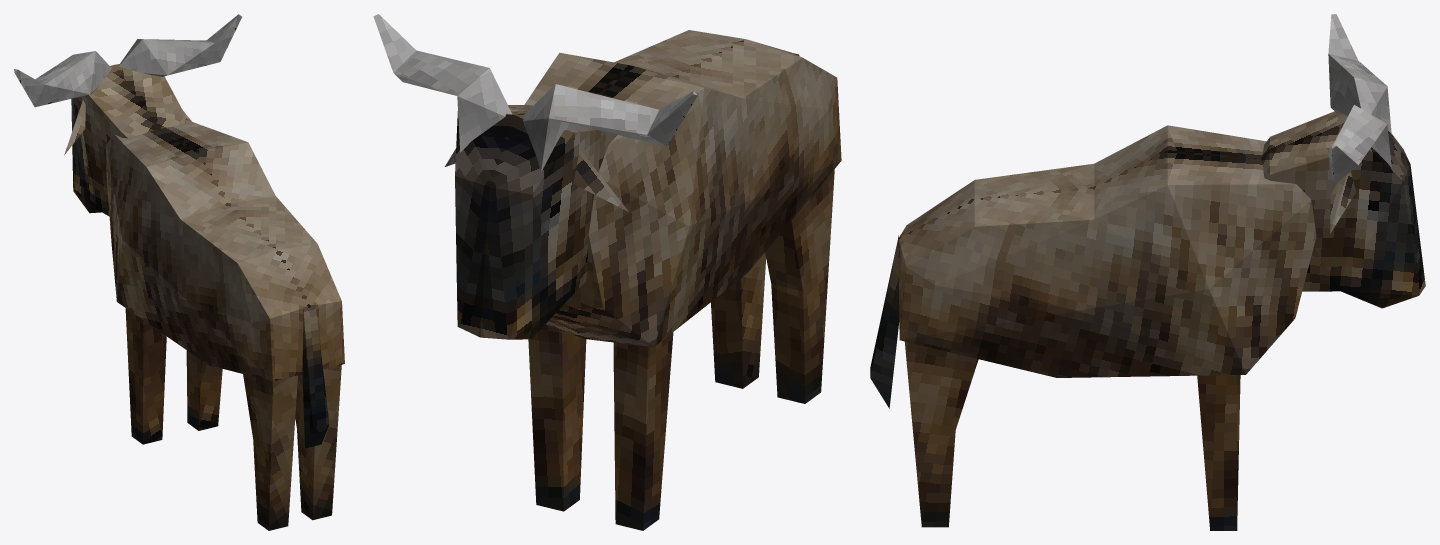
File: Gnu_Gnu.glb
3 renders of one model, left to right at view 1: azimuth 30°, elevation 25°; view 2: azimuth 150°, elevation 25°; view 3: azimuth 270°, elevation 25°, orthographic. The views are drawn at different scales.
Parts seen in each view (by area): view 1: Body, Head, Leg4, Leg2, Leg3, Leg1; view 2: Body, Head, Leg4, Leg2, Leg1, Leg3; view 3: Body, Head, Leg3, Leg1.
Part boxes in pixels (<box>): Body: <box>106,119,344,448</box>; Head: <box>14,14,241,216</box>; Leg4: <box>243,374,297,530</box>; Leg2: <box>125,308,166,444</box>; Leg3: <box>295,364,341,520</box>; Leg1: <box>186,350,222,430</box>; Body: <box>524,30,841,347</box>; Head: <box>373,14,697,339</box>; Leg4: <box>765,169,834,403</box>; Leg2: <box>613,332,673,530</box>; Leg1: <box>528,324,586,511</box>; Leg3: <box>711,252,766,388</box>; Body: <box>870,125,1316,408</box>; Head: <box>1261,14,1425,308</box>; Leg3: <box>904,341,978,527</box>; Leg1: <box>1197,375,1240,530</box>.
Bounding box in the file's own units: 1.08 × 1.61 × 1.9.
Materials: 1 (1 with a texture image).
